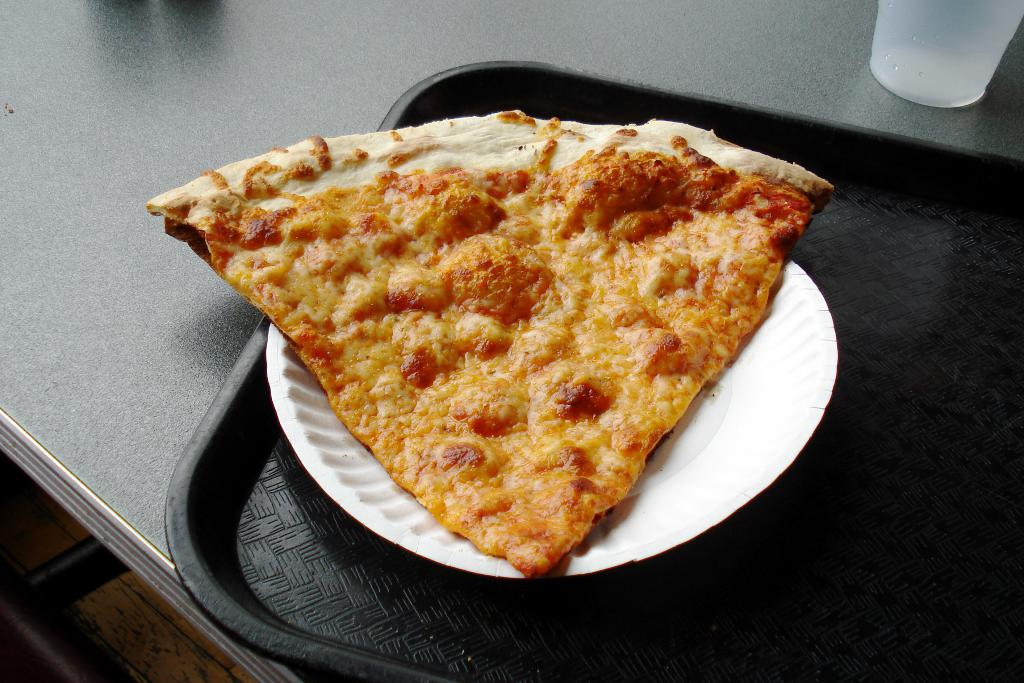Pizza: (151, 115, 827, 552)
